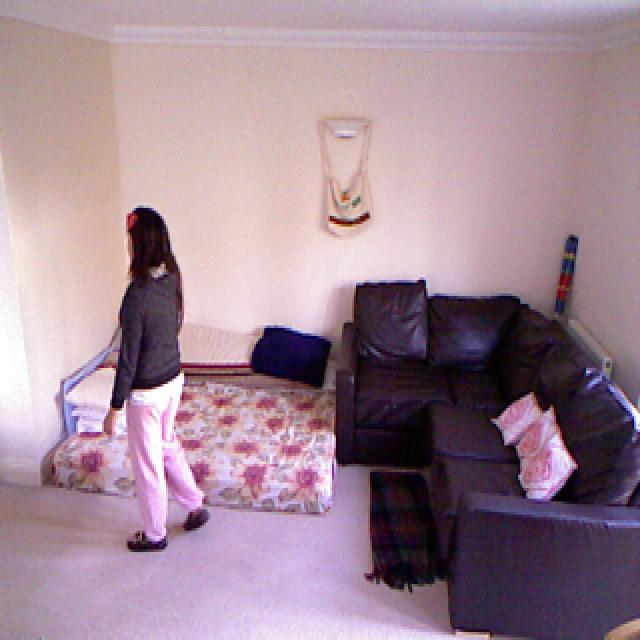standing: (103, 204, 211, 554)
